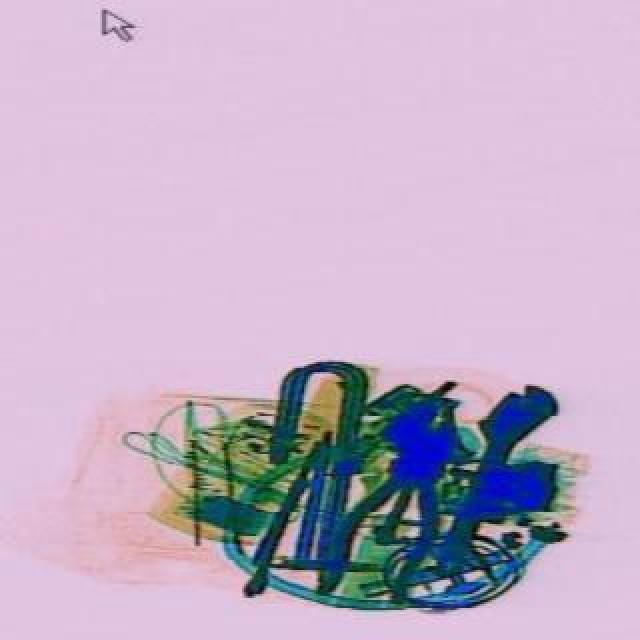scissors: (402, 372, 558, 590)
wrench: (302, 380, 484, 620)
